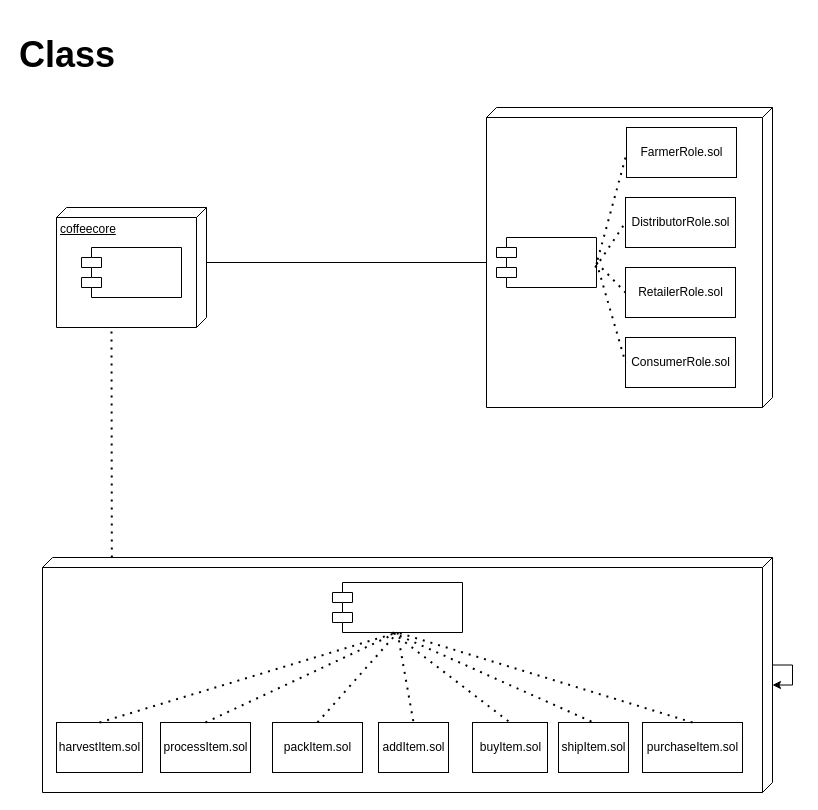
Some shapes in this 818 by 810 pixel diagram are drawn without their labels. Here are the shapes that lost their labels. From the top down, the box of each, then its label:
(80, 246, 182, 298): Ownable.sol
(496, 236, 596, 288): Roles.sol
(486, 106, 772, 408): acesscontrol
(332, 582, 462, 632): SupplyChain.sol
(42, 556, 772, 792): coffeebase
